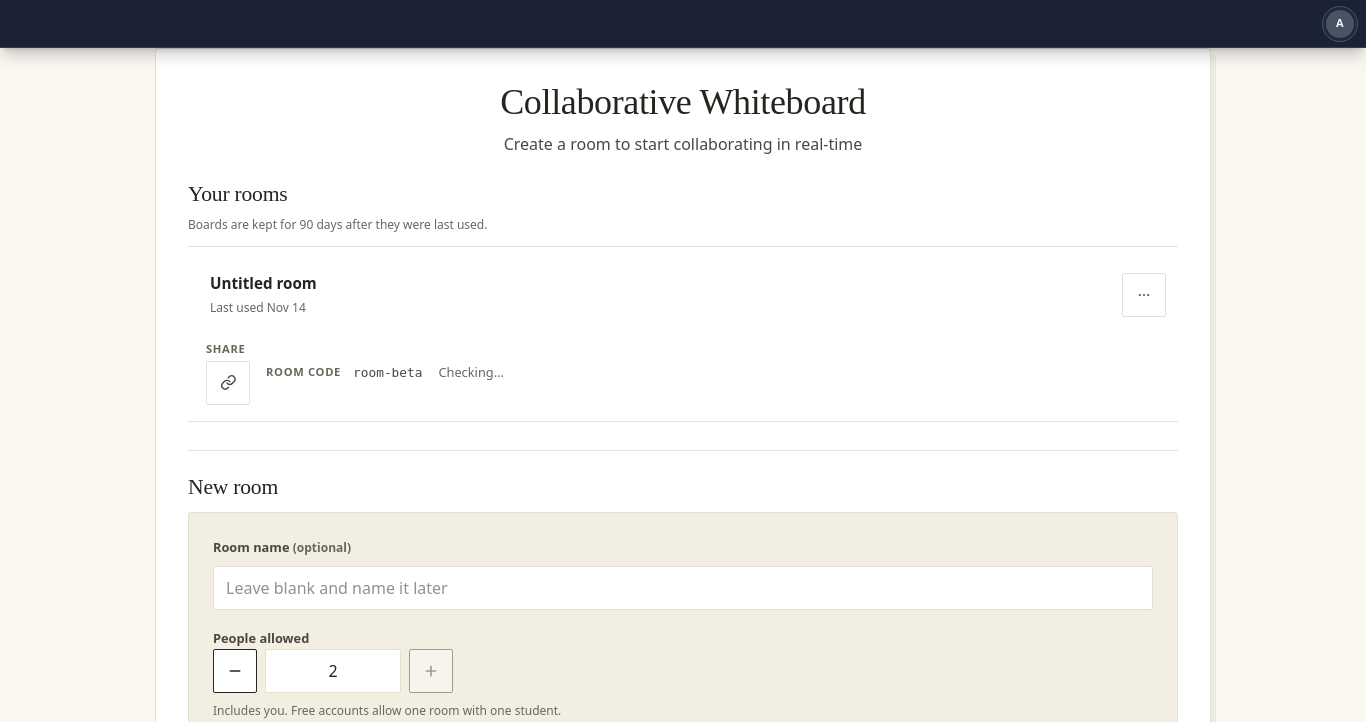
Test case: WhiteboardRoute room list › renames an unnamed room via settings POST then refreshes the list
The width and height of the screenshot is (1366, 722).
Expected: the link with test id "whiteboard-room-list-item-room-beta" is shown, [210,273,317,316]
Click the button with test id "whiteboard-room-menu-room-beta" at [1144, 295], box [1122,273,1166,317]
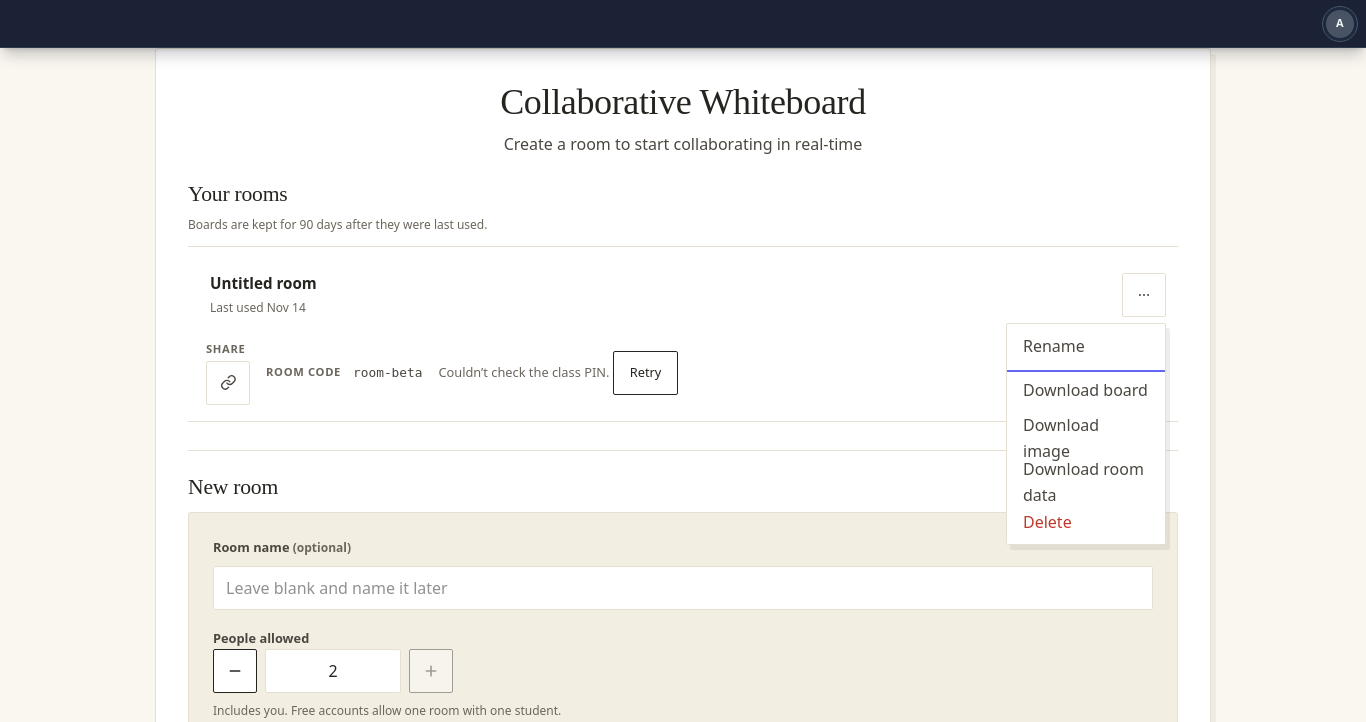
Click the menu item with test id "whiteboard-room-rename-room-beta" at [1086, 346], box [1007,324,1165,368]
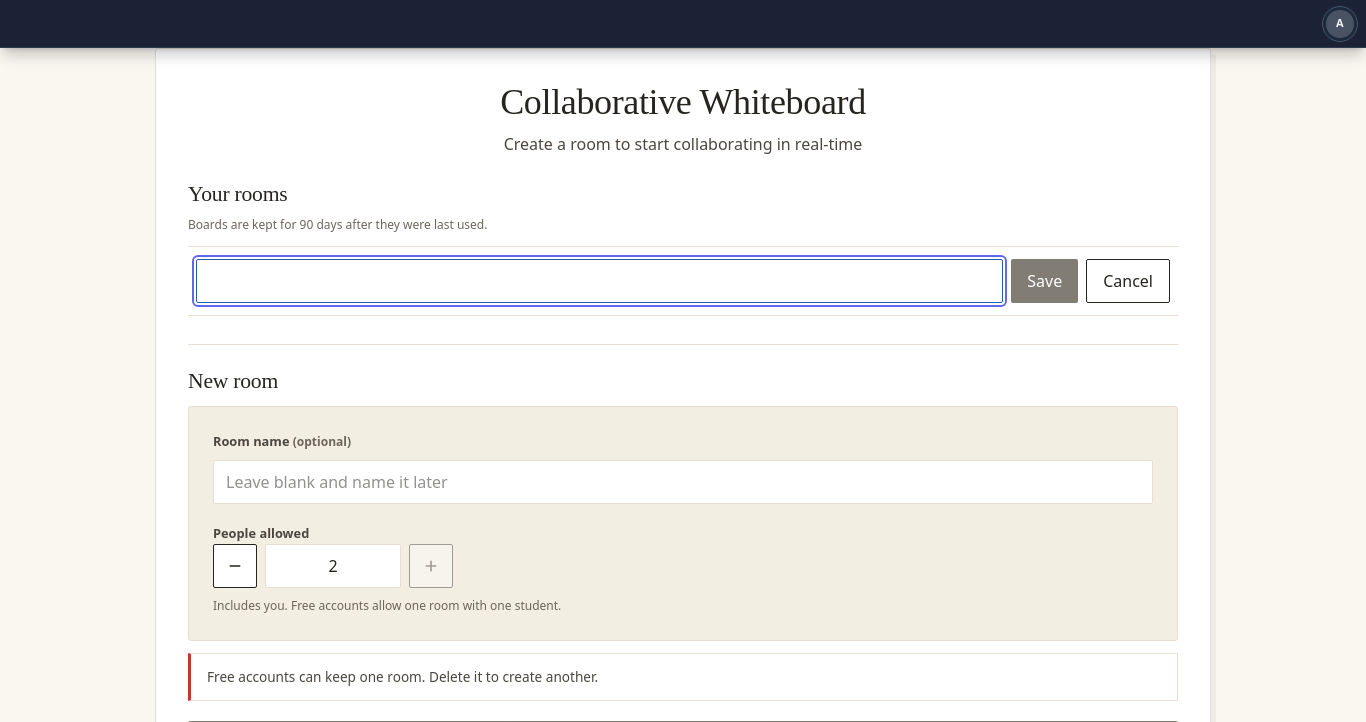
Type "Geometry" into the field with test id "whiteboard-room-name-input-room-beta" at [600, 281], box [196,259,1003,303]
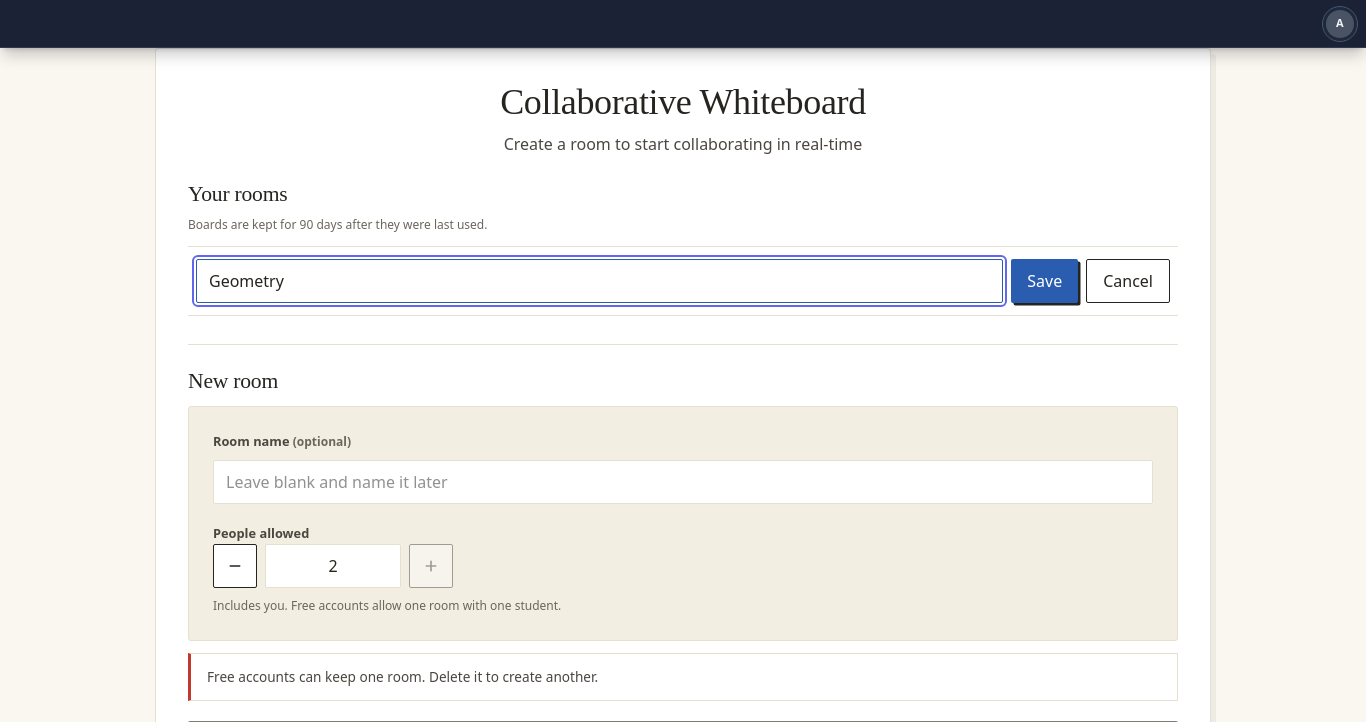
Click the button with test id "whiteboard-room-name-save-room-beta" at [1045, 281], box [1011,259,1078,303]
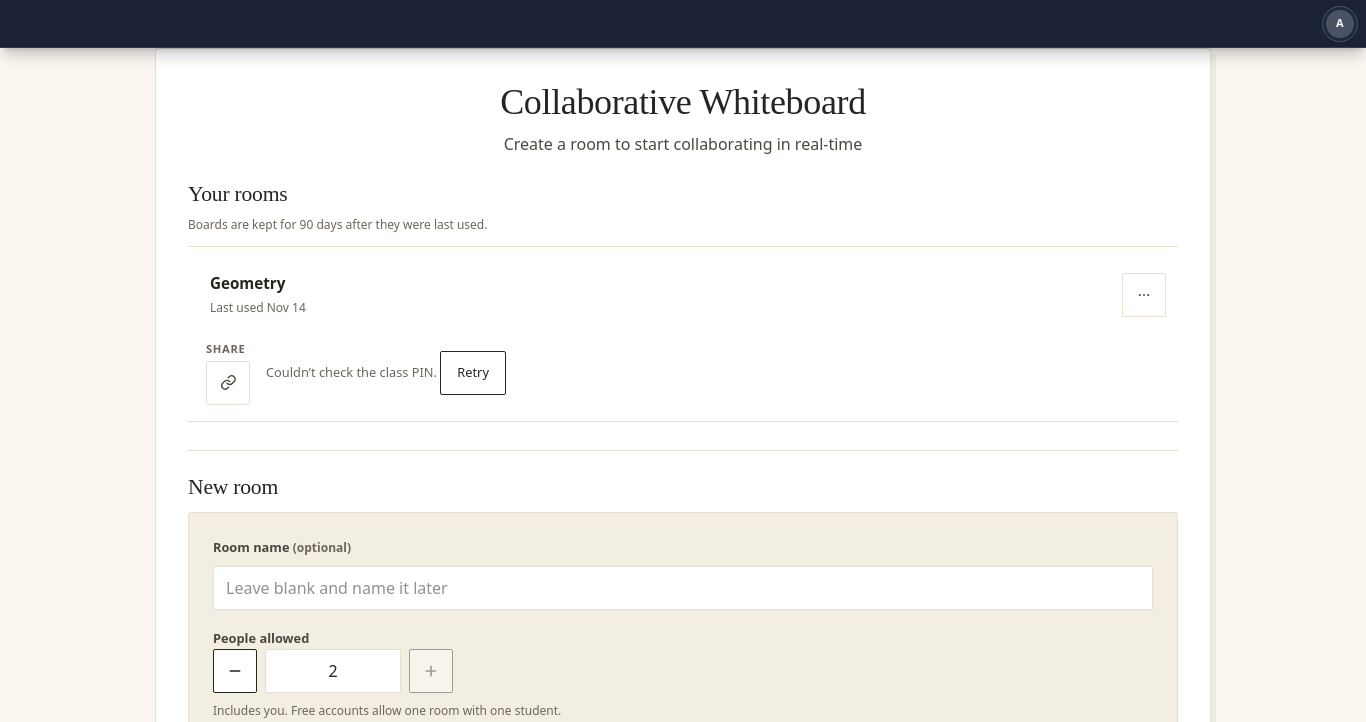
Result: the link with test id "whiteboard-room-list-item-room-beta" shows "Geometry" at [210,273,306,316]
